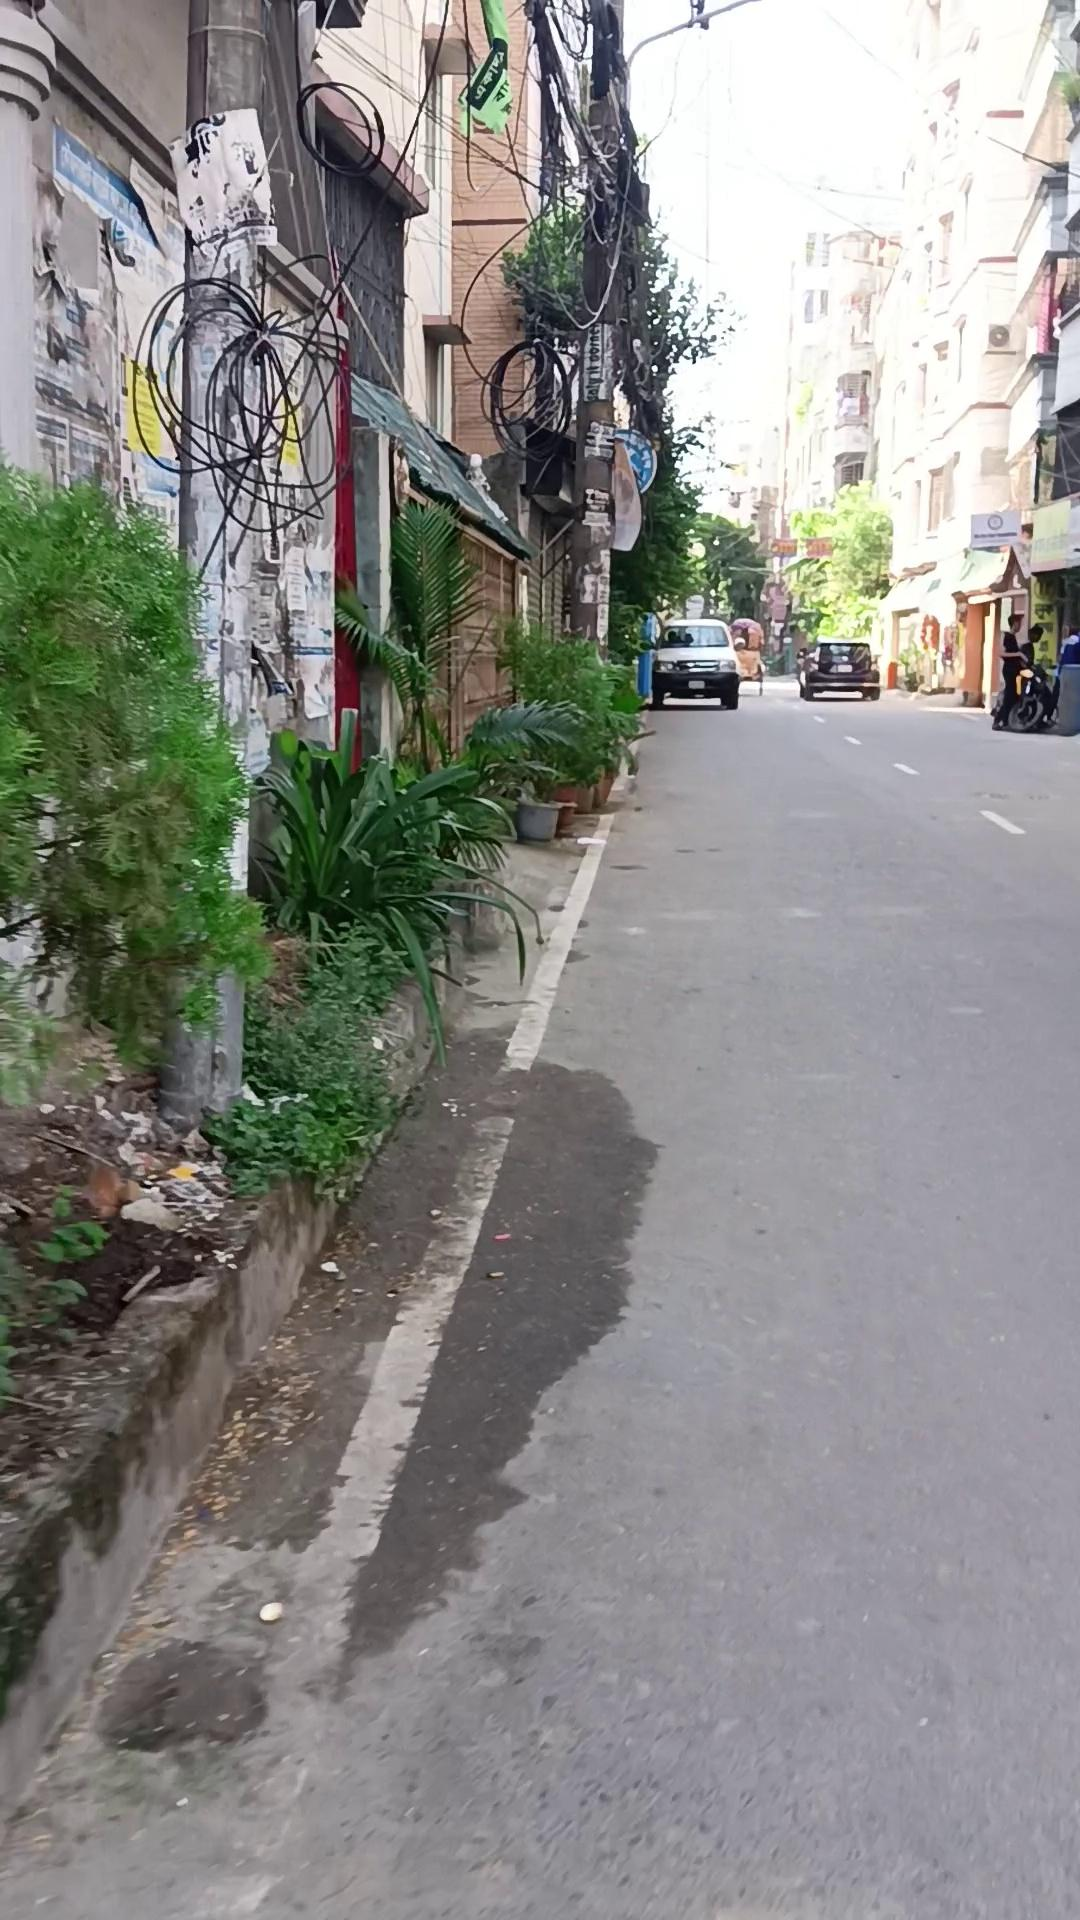Bollard: (647, 617, 740, 709), (796, 640, 880, 702)
Broken-road: (0, 866, 440, 1800)
Cat: (1054, 663, 1079, 735), (636, 649, 653, 699)
Construction-barrier: (989, 650, 1058, 732)
Dog: (158, 3, 280, 1125), (560, 1, 640, 662)
Fallen-tree: (493, 634, 646, 845), (895, 641, 922, 692)
Light-pole: (0, 448, 272, 1110)
Obstacle: (1, 3, 435, 1106)
